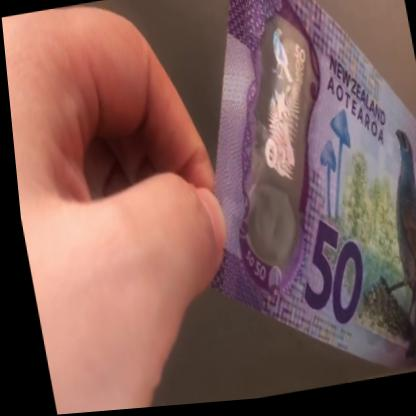50B: (215, 23, 339, 265)
